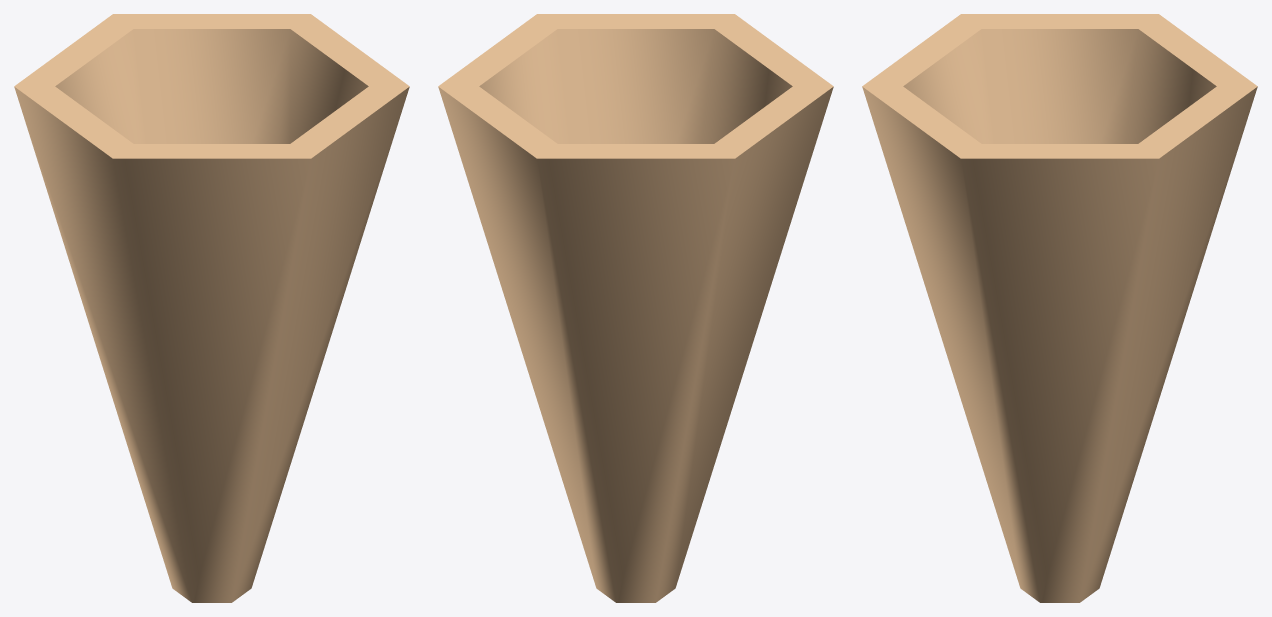
Rendered from iceCreamCone.GLB.
3 renders of one model, left to right at view 1: azimuth 30°, elevation 25°; view 2: azimuth 150°, elevation 25°; view 3: azimuth 270°, elevation 25°, orthographic.
Visible parts, largest first — view 1: iceCreamCone; view 2: iceCreamCone; view 3: iceCreamCone.
Part boxes in pixels (<box>): iceCreamCone: <box>14,14,409,602</box>; iceCreamCone: <box>438,14,833,602</box>; iceCreamCone: <box>862,14,1257,602</box>.
Bounding box in the file's own units: 0.1845 × 0.2982 × 0.213.
